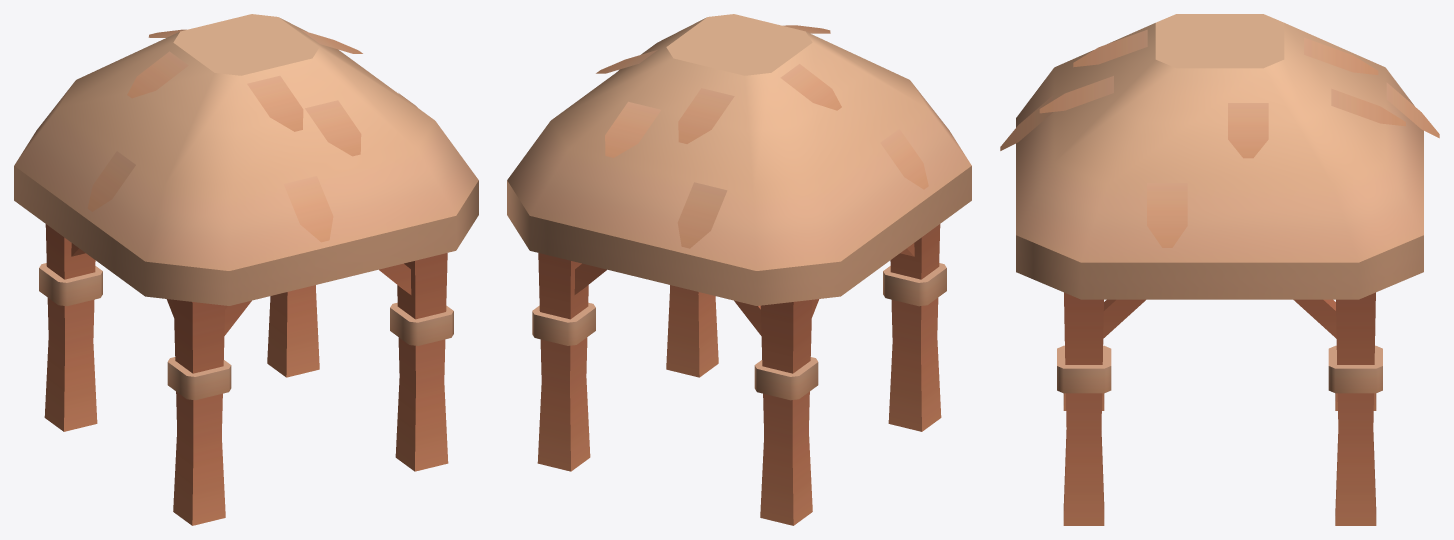
Rendered from structure-roof.glb.
3 views of the same model, side by side, from view 1: azimuth 30°, elevation 25°; view 2: azimuth 150°, elevation 25°; view 3: azimuth 270°, elevation 25° (orthographic). The views are drawn at different scales.
Parts seen in each view (by area): view 1: structure-roof; view 2: structure-roof; view 3: structure-roof.
Boxes of the visible parts, x1,y1,x2,y2 form: structure-roof: (14, 14, 478, 525); structure-roof: (507, 14, 971, 525); structure-roof: (1000, 14, 1439, 525).
Bounding box in the file's own units: 3.09 × 3.4 × 3.23.
Materials: 1 (1 with a texture image).
